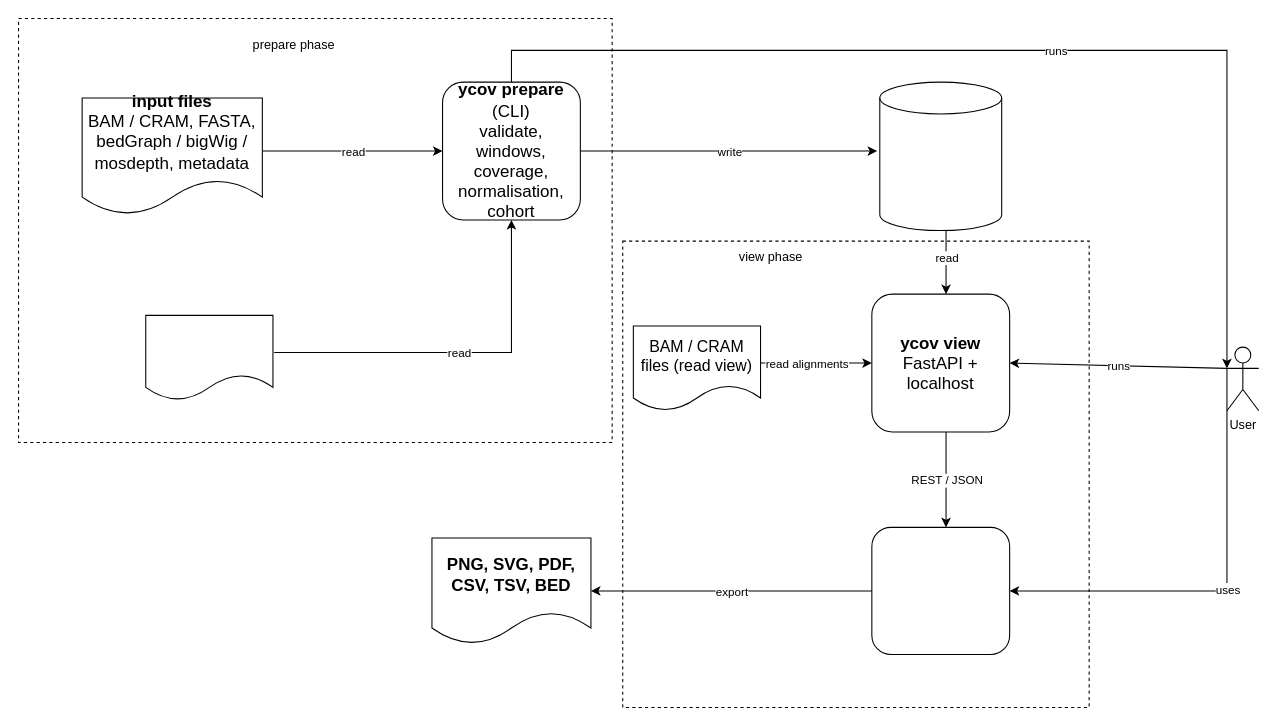
Image size: 1277x726. Some labels were removed from this diagram. Each missing label, with the centre of its shape:
browser Plotly, igv.js, TanStack, React: (x=940, y=590)
bundled annotations: (x=209, y=357)
project folder manifest.json, flags.json, log, parquet tables: (x=940, y=156)
